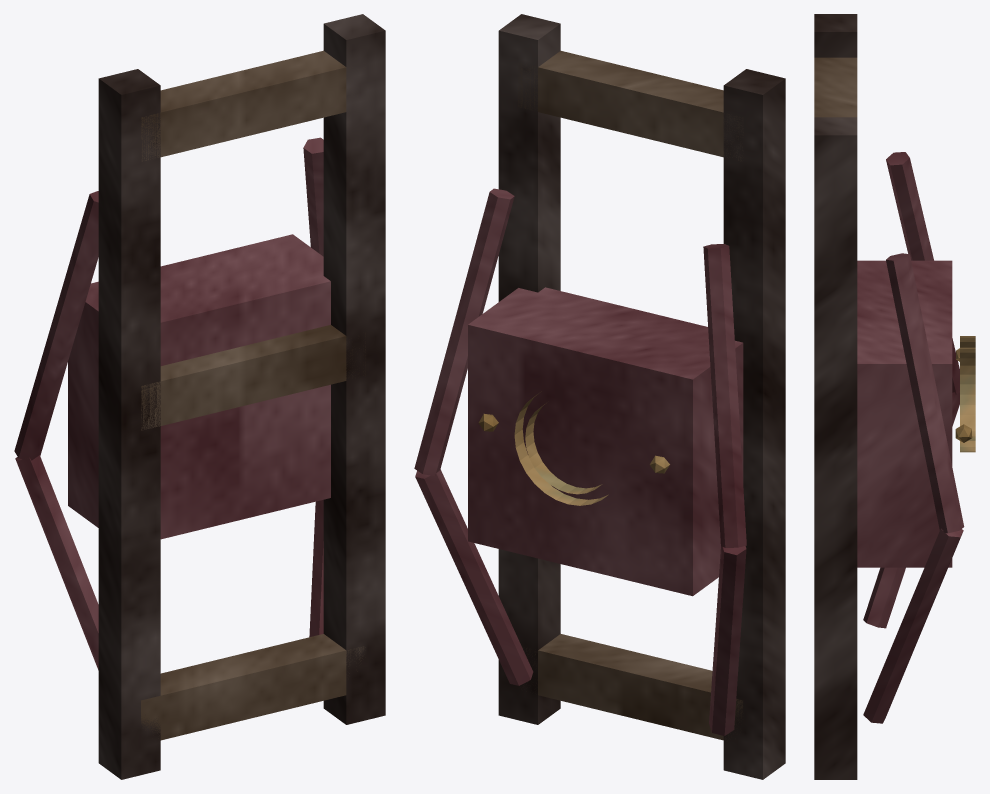
File: 0832_carrier_frame_07.glb
3 renders of one model, left to right at view 1: azimuth 30°, elevation 25°; view 2: azimuth 150°, elevation 25°; view 3: azimuth 270°, elevation 25°, orthographic. The views are drawn at different scales.
Parts seen in each view (by area): view 1: wood_dark, cloth, wood; view 2: cloth, wood_dark, wood, brass; view 3: cloth, wood_dark, wood, brass.
Boxes of the visible parts, bbox=[...] form: wood_dark: bbox=[98, 14, 385, 779]; cloth: bbox=[14, 137, 330, 670]; wood: bbox=[141, 50, 365, 740]; cloth: bbox=[414, 188, 746, 735]; wood_dark: bbox=[498, 14, 785, 779]; wood: bbox=[518, 51, 743, 740]; brass: bbox=[478, 391, 669, 505]; cloth: bbox=[857, 152, 964, 723]; wood_dark: bbox=[814, 14, 857, 779]; wood: bbox=[814, 57, 857, 117]; brass: bbox=[955, 336, 975, 452].
Bounding box in the file's own units: 0.921 × 1.83 × 0.415.
Materials: 4 (4 with a texture image).
